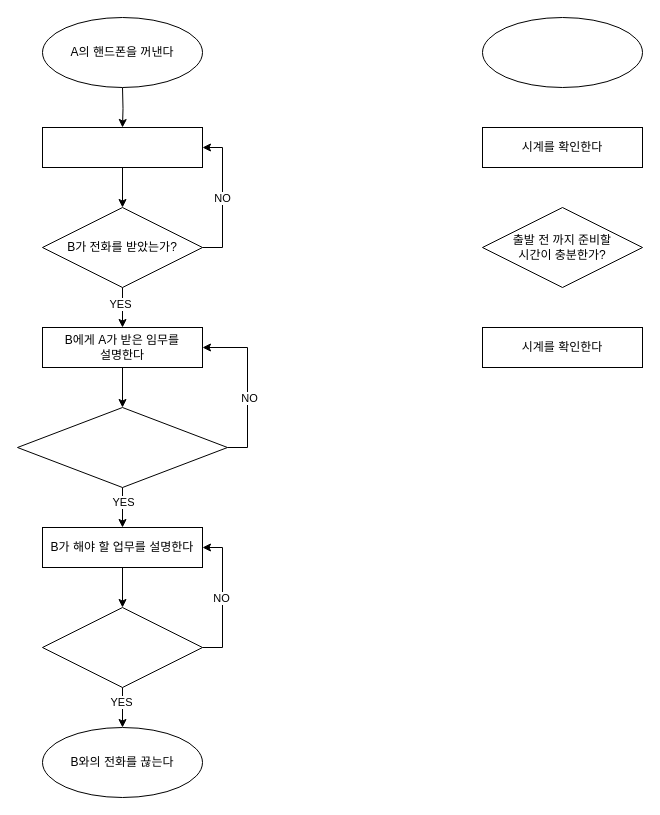
The diagram is 660 pixels wide and 815 high, and some of its shapes have lost their labels. The shapes that lost their labels are listed below. From the top down, each one's centre as x and y in pixels, then its label:
(x=562, y=52): 알람 소리를 듣고 기상한다
(x=122, y=147): B에게 전화를 건다
(x=122, y=447): B에게 업무를 주어도 되는지 합의가 되었는가?
(x=122, y=647): B가 A가 시킨 업무의 내용을 이해했는가?
